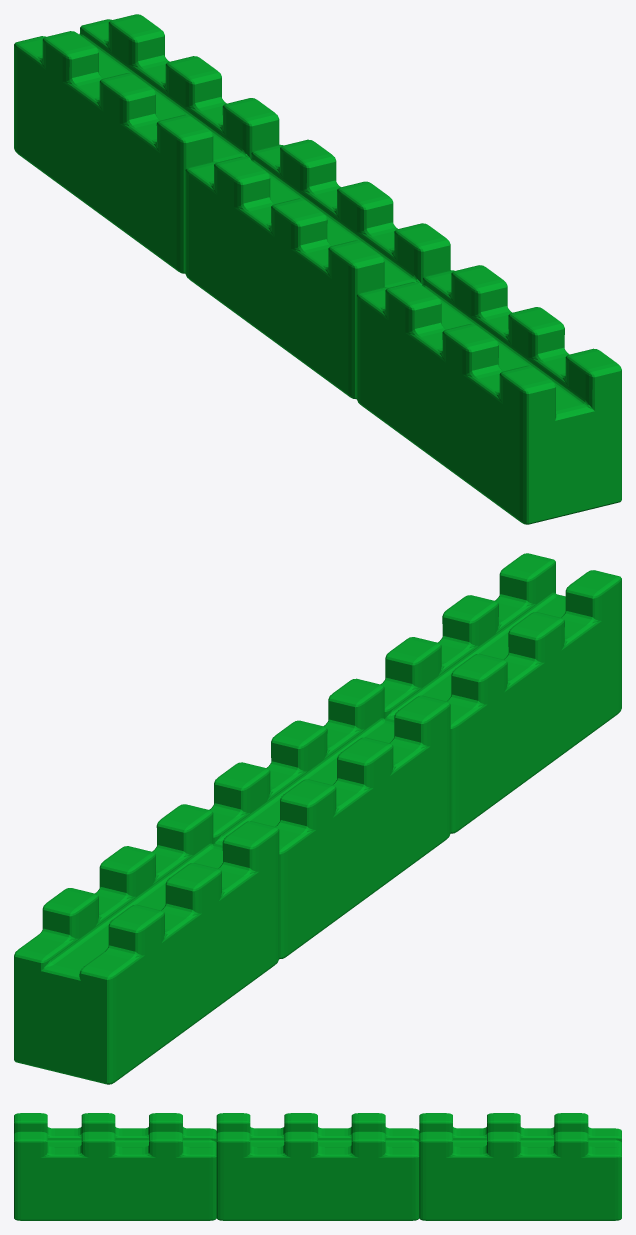
Rendered from block 9.fbx.
3 views of the same model, one above another, from view 1: azimuth 30°, elevation 25°; view 2: azimuth 150°, elevation 25°; view 3: azimuth 270°, elevation 25° (orthographic). The views are drawn at different scales.
Parts seen in each view (by area): view 1: Cube; view 2: Cube; view 3: Cube.
Part boxes in pixels (x1,y1,x2,y2): Cube: (14,14,621,524); Cube: (14,553,621,1084); Cube: (14,1113,621,1220).
Bounding box in the file's own units: 400 × 531 × 3600.
